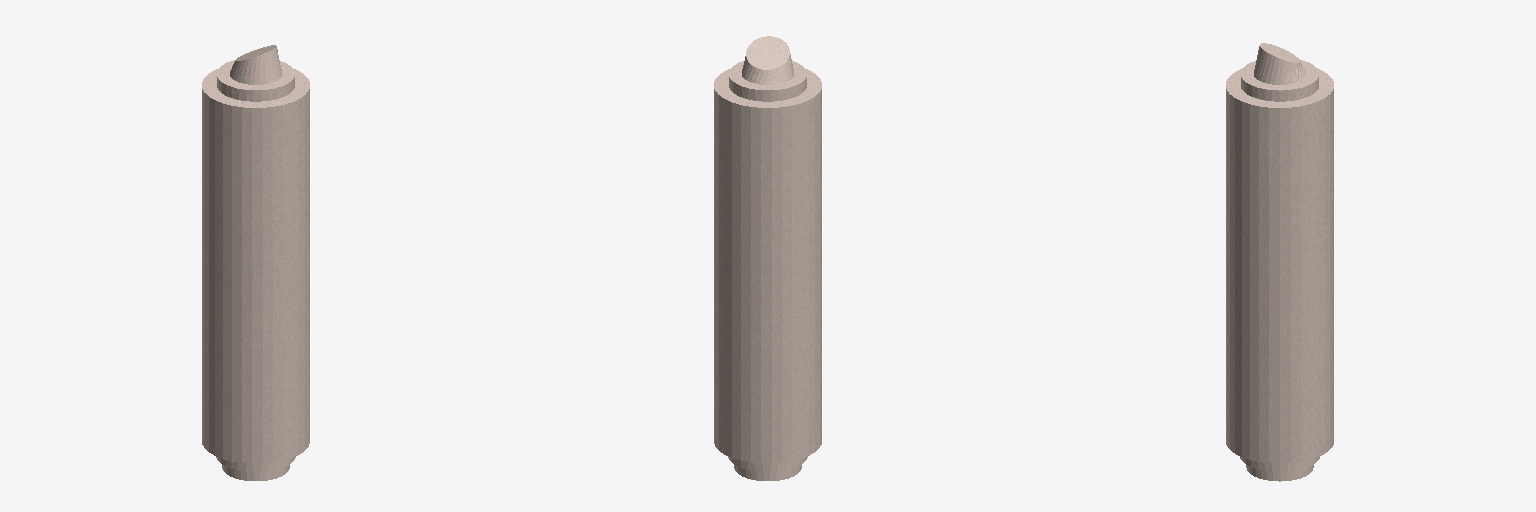
3 views of the same model, side by side, from view 1: azimuth 30°, elevation 25°; view 2: azimuth 150°, elevation 25°; view 3: azimuth 270°, elevation 25° (orthographic).
Visible parts, largest first — view 1: Cylinder.003_Cylinder.001; view 2: Cylinder.003_Cylinder.001; view 3: Cylinder.003_Cylinder.001.
Boxes of the visible parts, x1,y1,x2,y2 form: Cylinder.003_Cylinder.001: [202, 45, 309, 480]; Cylinder.003_Cylinder.001: [714, 36, 821, 480]; Cylinder.003_Cylinder.001: [1226, 43, 1333, 481].
Size of the model in its own units: 0.2498 by 1.07 by 0.2498.
1 materials, 1 textured.